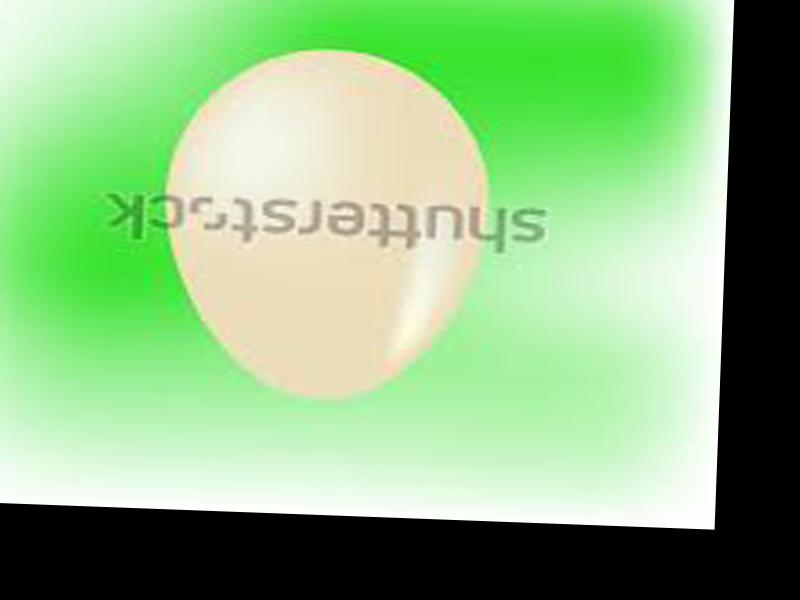Eggs: (157, 45, 492, 404)
